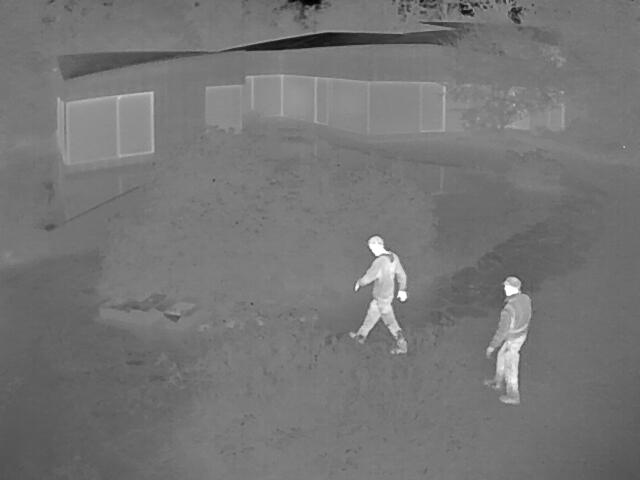person: (348, 235, 408, 354), (483, 276, 532, 408)
